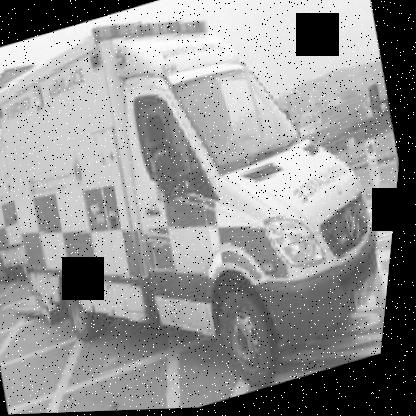emergency: (0, 0, 415, 415), (0, 118, 67, 294)
